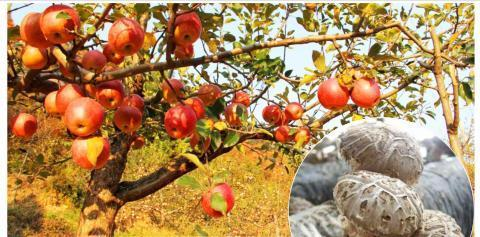apple: (63, 97, 106, 137), (107, 16, 144, 57), (40, 4, 79, 42), (70, 134, 110, 171), (171, 12, 202, 59), (200, 183, 235, 220), (22, 13, 52, 48), (165, 105, 196, 138), (317, 78, 349, 109), (350, 78, 380, 108), (55, 84, 84, 114), (96, 85, 124, 110), (12, 112, 37, 139), (198, 83, 222, 107), (162, 79, 185, 101), (225, 102, 248, 124), (262, 105, 282, 125), (283, 103, 305, 121)
